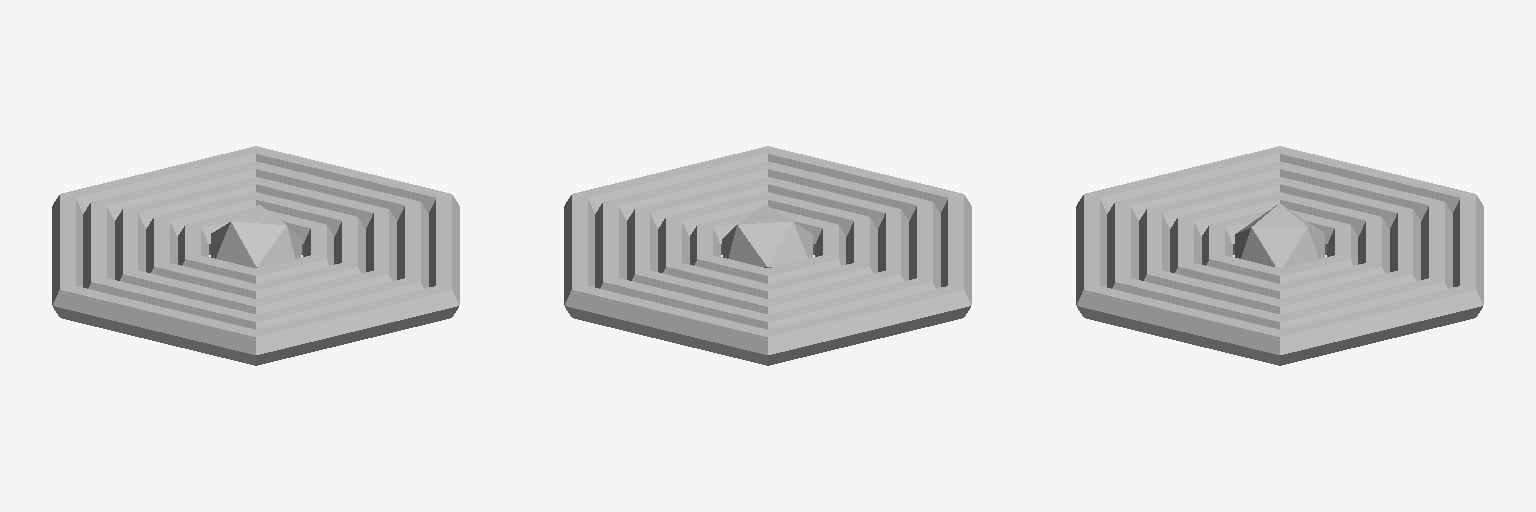
The model's file is fancy.obj.
The picture shows the model from 3 angles: view 1: azimuth 30°, elevation 25°; view 2: azimuth 150°, elevation 25°; view 3: azimuth 270°, elevation 25°; orthographic projection.
Visible parts, largest first — view 1: pTorus1, pTorus5, pTorus4, pTorus3, pTorus2, pPlatonic1; view 2: pTorus1, pTorus5, pTorus4, pTorus3, pTorus2, pPlatonic1; view 3: pTorus1, pTorus5, pTorus4, pTorus3, pTorus2, pPlatonic1.
Part boxes in pixels (x1,y1,x2,y2): pTorus1: (52,146,459,365); pTorus5: (83,162,428,329); pTorus4: (115,177,396,313); pTorus3: (146,192,365,298); pTorus2: (178,208,333,283); pPlatonic1: (211,205,301,267); pTorus1: (564,146,971,365); pTorus5: (595,162,940,329); pTorus4: (627,177,908,313); pTorus3: (658,192,877,298); pTorus2: (690,208,845,283); pPlatonic1: (722,205,812,267); pTorus1: (1076,146,1483,365); pTorus5: (1107,162,1452,329); pTorus4: (1139,177,1420,313); pTorus3: (1170,192,1389,298); pTorus2: (1202,210,1357,283); pPlatonic1: (1235,203,1324,267).
Bounding box in the file's own units: 13 × 2.48 × 11.26.